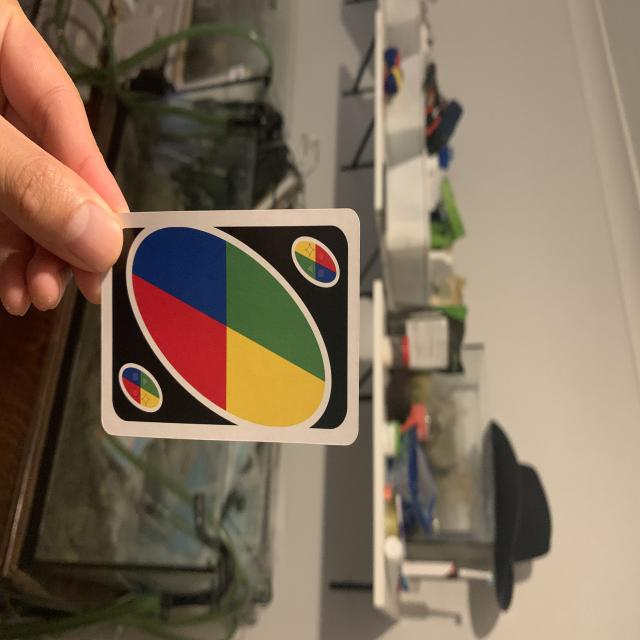lcolor-40: (286, 227, 344, 292)
